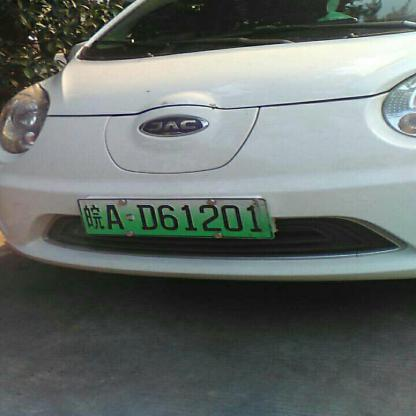lp: (78, 198, 272, 236)
